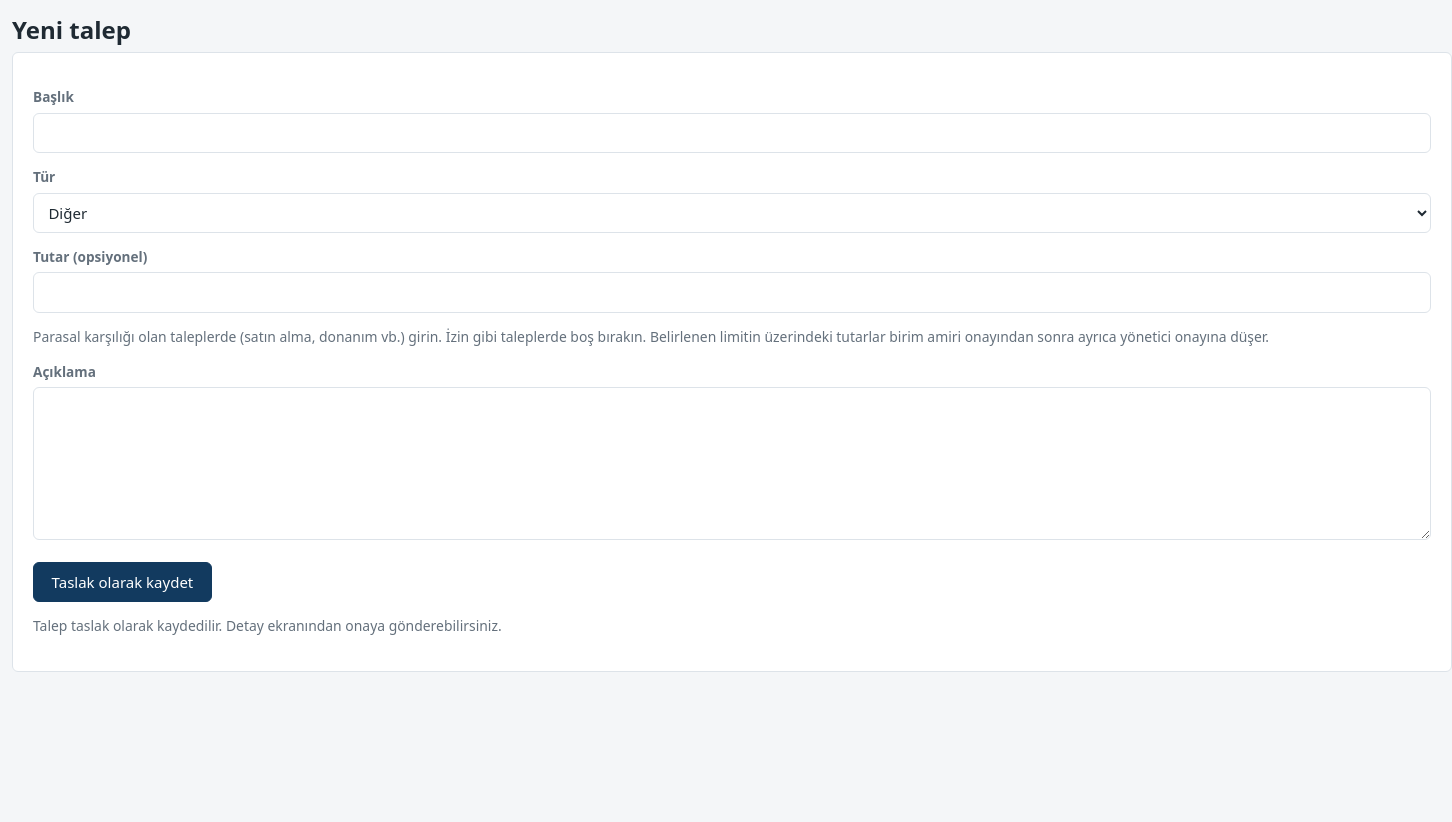
Test: Talep olusturma akisi › arka uctan gelen alan hatalarini ilgili alanin altinda gosterir
In the text box labelled "Açıklama": [732, 464] box [33,387,1431,540], type "aciklama"
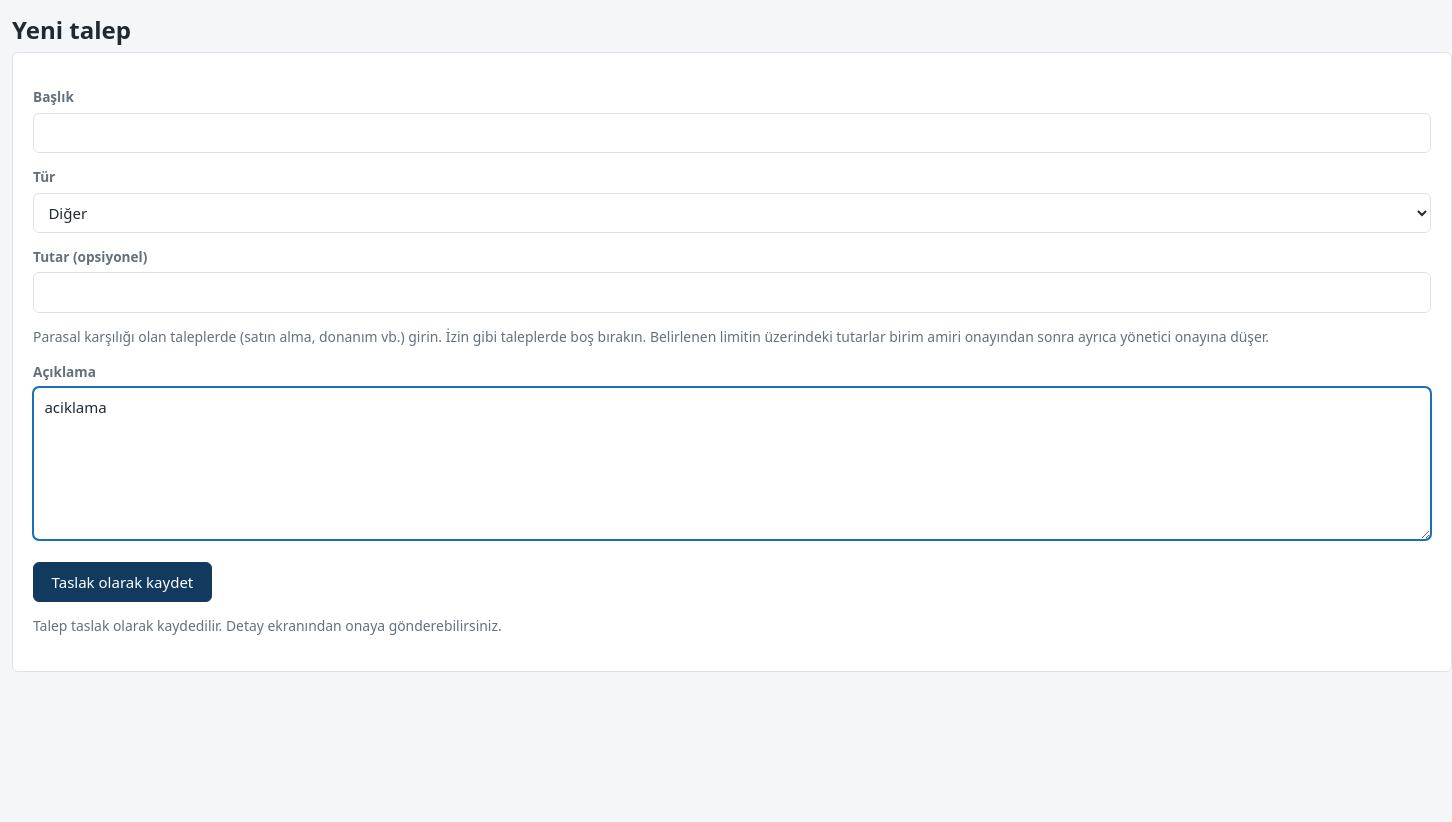
Click the button "Taslak olarak kaydet": [122, 582] box [33,562,212,602]
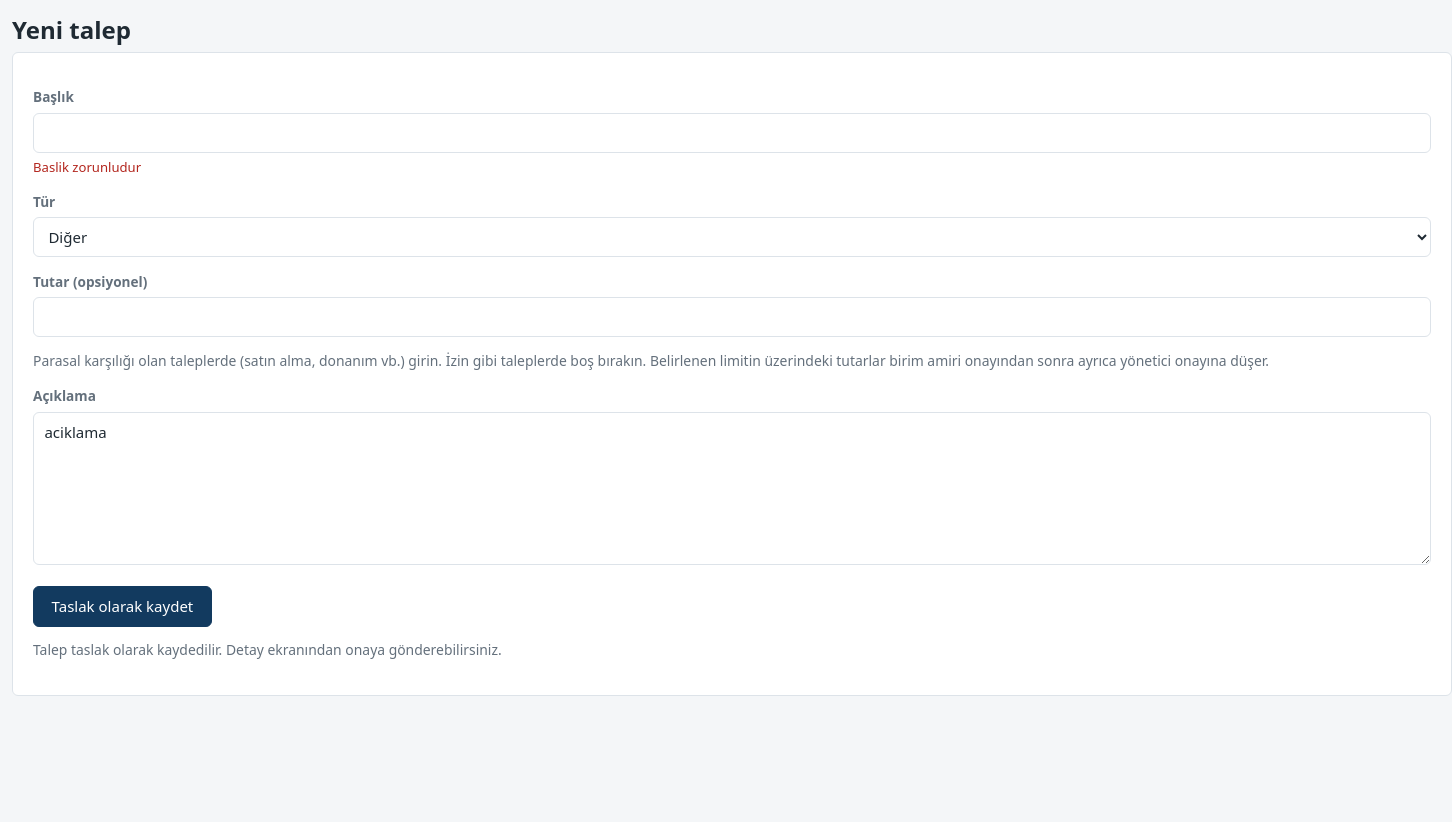
Expected: the text "Baslik zorunludur" is shown, [33,158,141,176]
